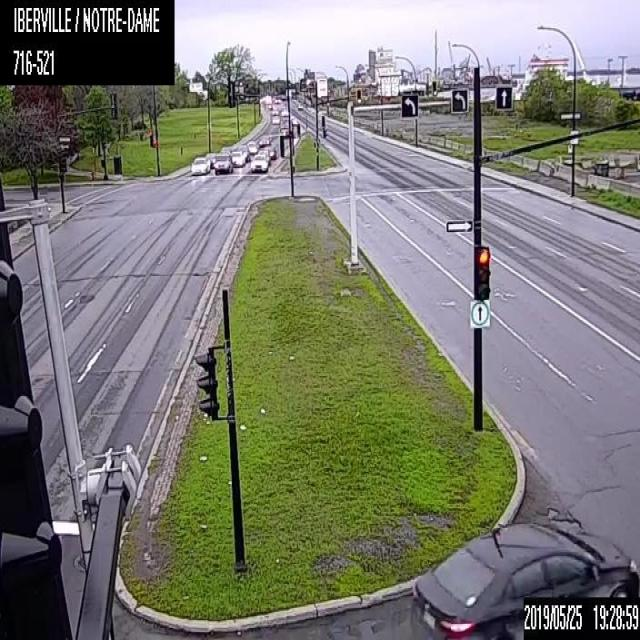vehicle: (408, 520, 639, 639), (521, 586, 639, 638), (189, 155, 210, 175), (213, 154, 232, 172), (250, 153, 267, 171), (230, 150, 244, 166), (257, 148, 270, 164), (205, 152, 217, 168), (264, 145, 276, 158), (258, 134, 270, 145), (271, 115, 280, 124), (297, 103, 303, 109)
